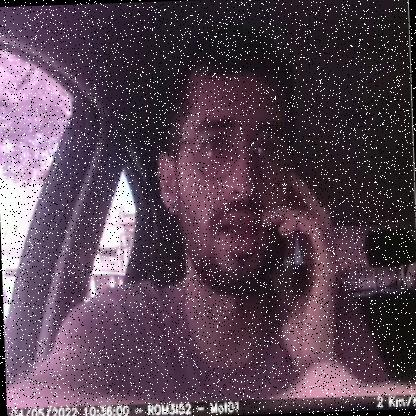phone: (260, 171, 316, 291)
